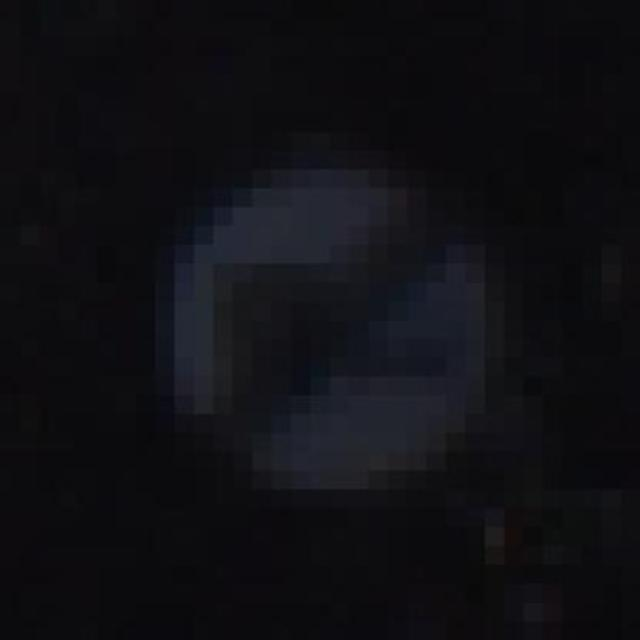Overtaking by trucks is prohibited: (97, 94, 543, 528)
